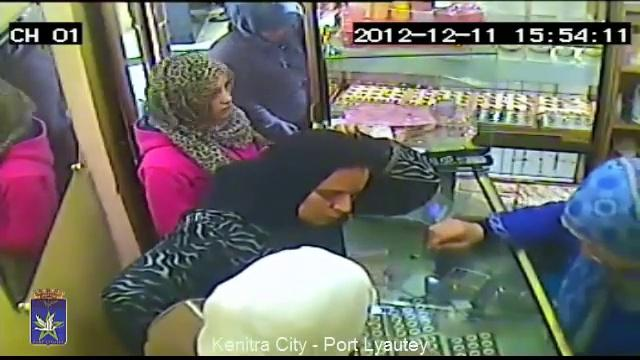Customer-Bagpack: (388, 144, 449, 214)
Regular: (475, 132, 640, 360), (165, 244, 406, 360), (139, 40, 251, 189), (257, 123, 388, 245), (224, 0, 323, 106)
